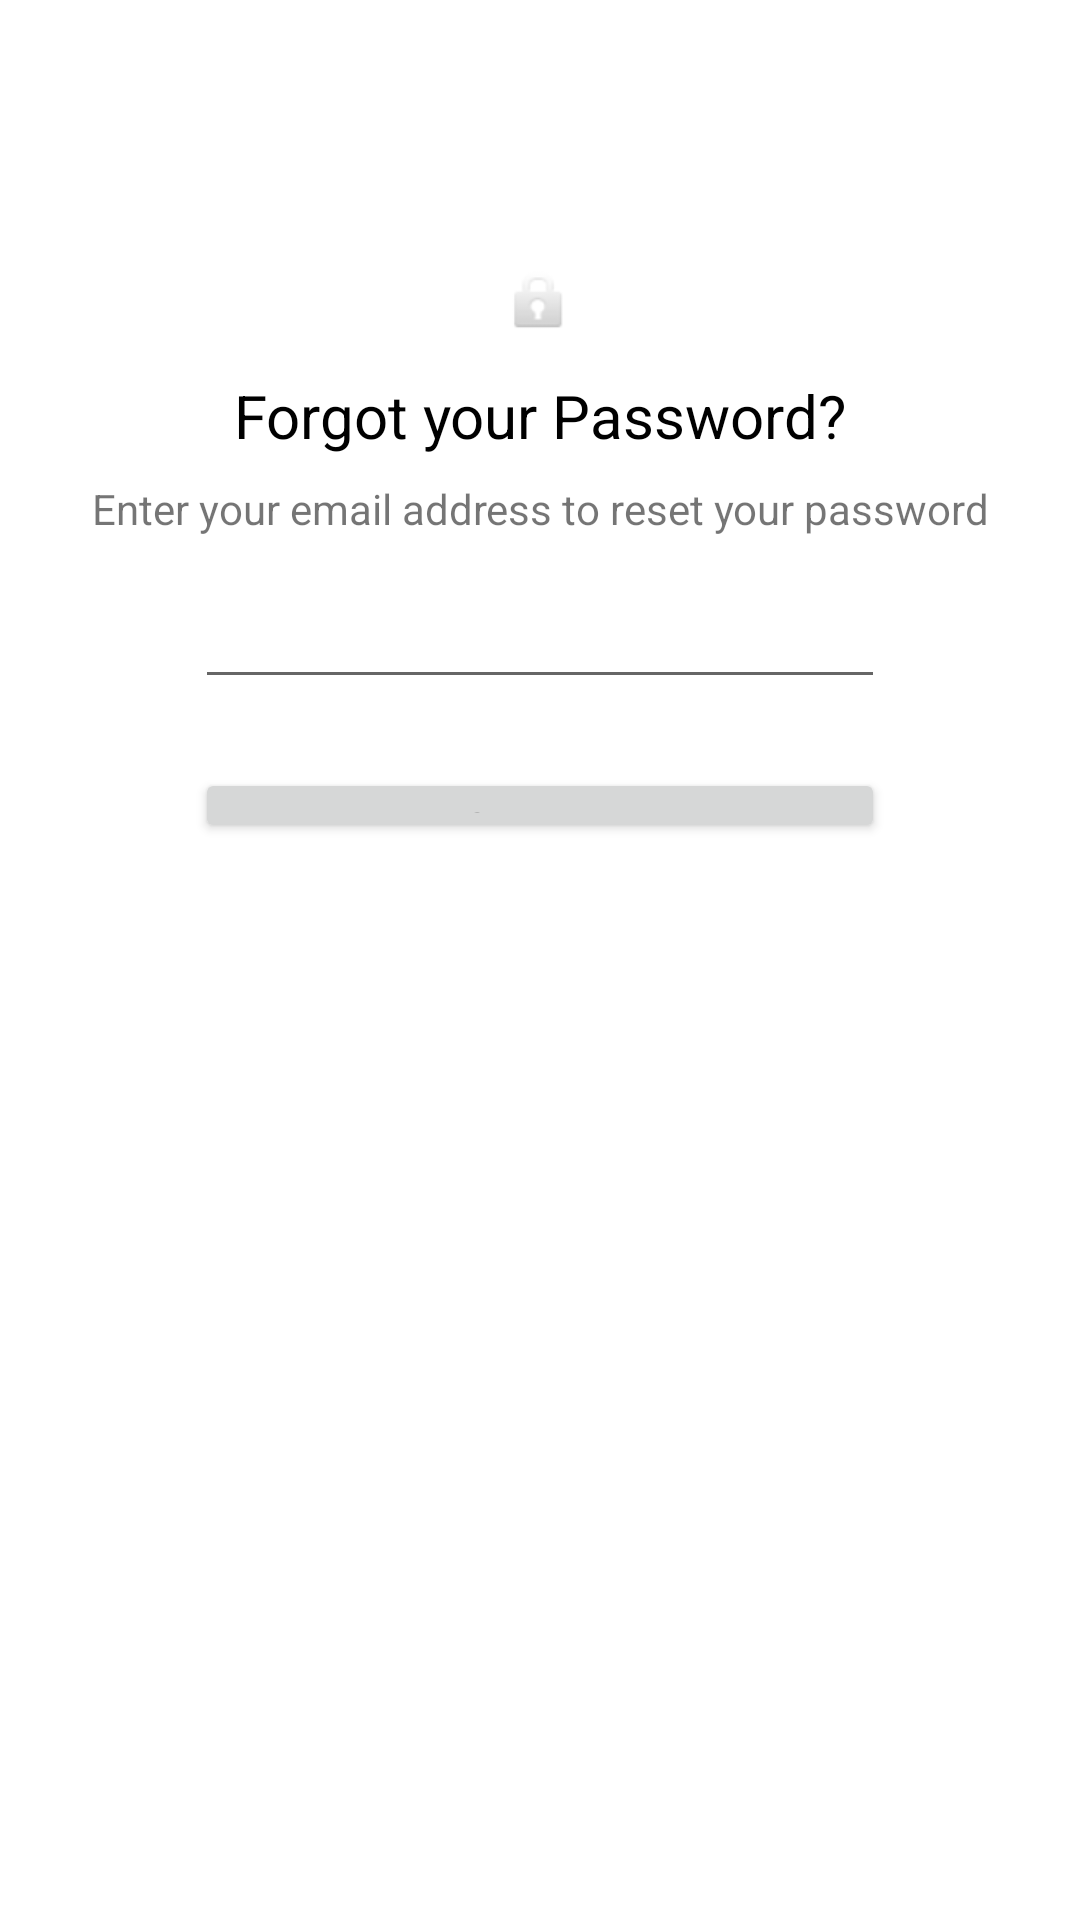

Named icons in this screenshot (1080×1920) and their centers, (x,y):
lock idle: (538,311)
